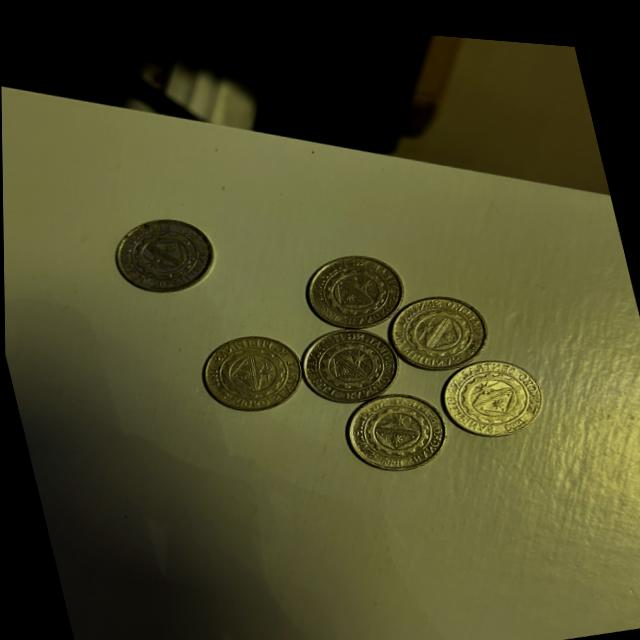1_Old_Back: (390, 286, 486, 364), (309, 248, 404, 326), (207, 330, 299, 409), (122, 213, 210, 291), (445, 348, 534, 424), (350, 387, 437, 463), (306, 324, 392, 398)
